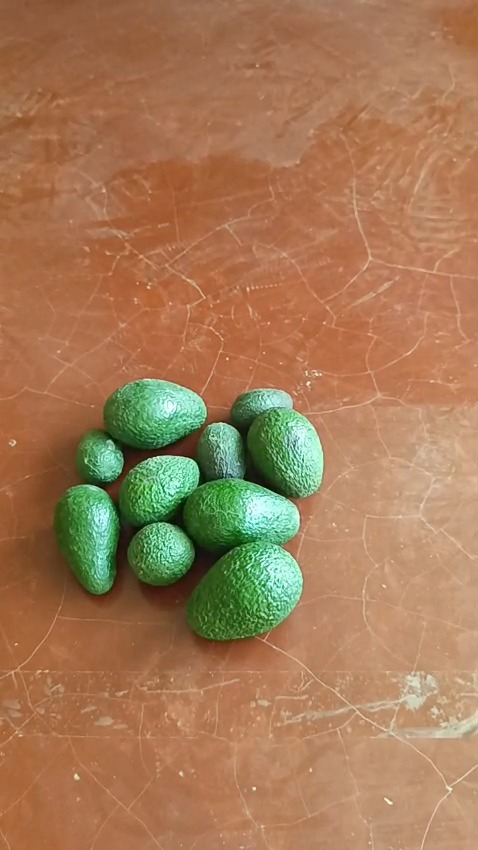Primera: (186, 542, 303, 639), (183, 477, 300, 551), (102, 377, 208, 449), (245, 407, 323, 497)
Segunda: (53, 484, 121, 594), (116, 453, 202, 528)
Tercera: (125, 520, 197, 587), (194, 421, 246, 481), (74, 428, 125, 486), (229, 387, 295, 431)
